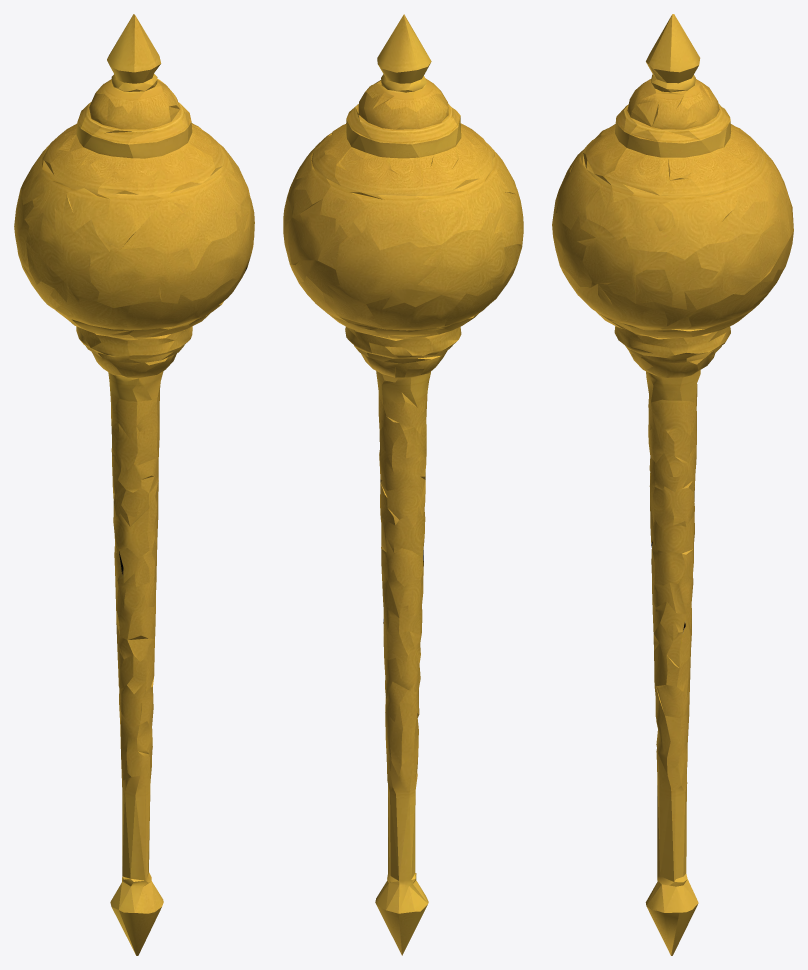
The model's file is hero_mace.glb.
3 views of the same model, side by side, from view 1: azimuth 30°, elevation 25°; view 2: azimuth 150°, elevation 25°; view 3: azimuth 270°, elevation 25° (orthographic).
Parts seen in each view (by area): view 1: output_unwrapped; view 2: output_unwrapped; view 3: output_unwrapped.
Part boxes in pixels (x1,y1,x2,y2): output_unwrapped: [14, 14, 254, 955]; output_unwrapped: [283, 14, 523, 955]; output_unwrapped: [552, 14, 793, 955].
Bounding box in the file's own units: 0.2441 × 1.05 × 0.2446.
1 material, 1 textured.
